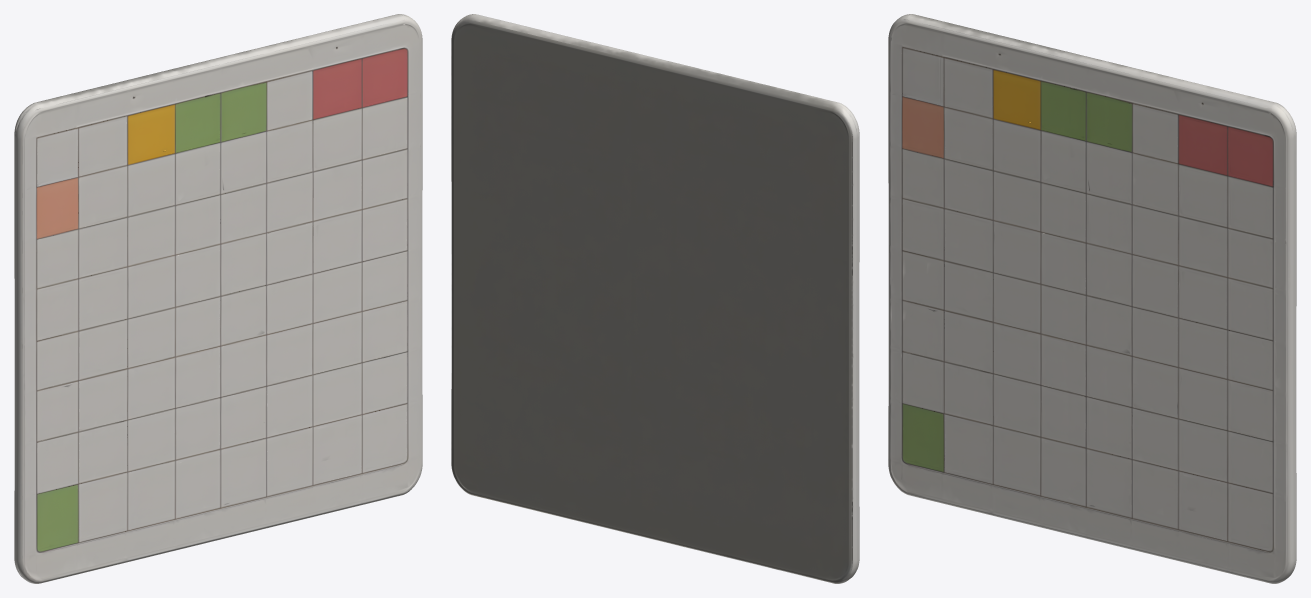
File: calendar-schedule.glb
3 views of the same model, side by side, from view 1: azimuth 30°, elevation 25°; view 2: azimuth 150°, elevation 25°; view 3: azimuth 330°, elevation 25° (orthographic).
Visible parts, largest first — view 1: node_0; view 2: node_0; view 3: node_0.
Boxes of the visible parts, left/top/right/bottom form: node_0: left=14, top=14, right=422, bottom=583; node_0: left=451, top=14, right=859, bottom=583; node_0: left=888, top=14, right=1296, bottom=583.
Size of the model in its own units: 0.8226 by 0.9296 by 0.0321.
Materials: 1 (1 with a texture image).
